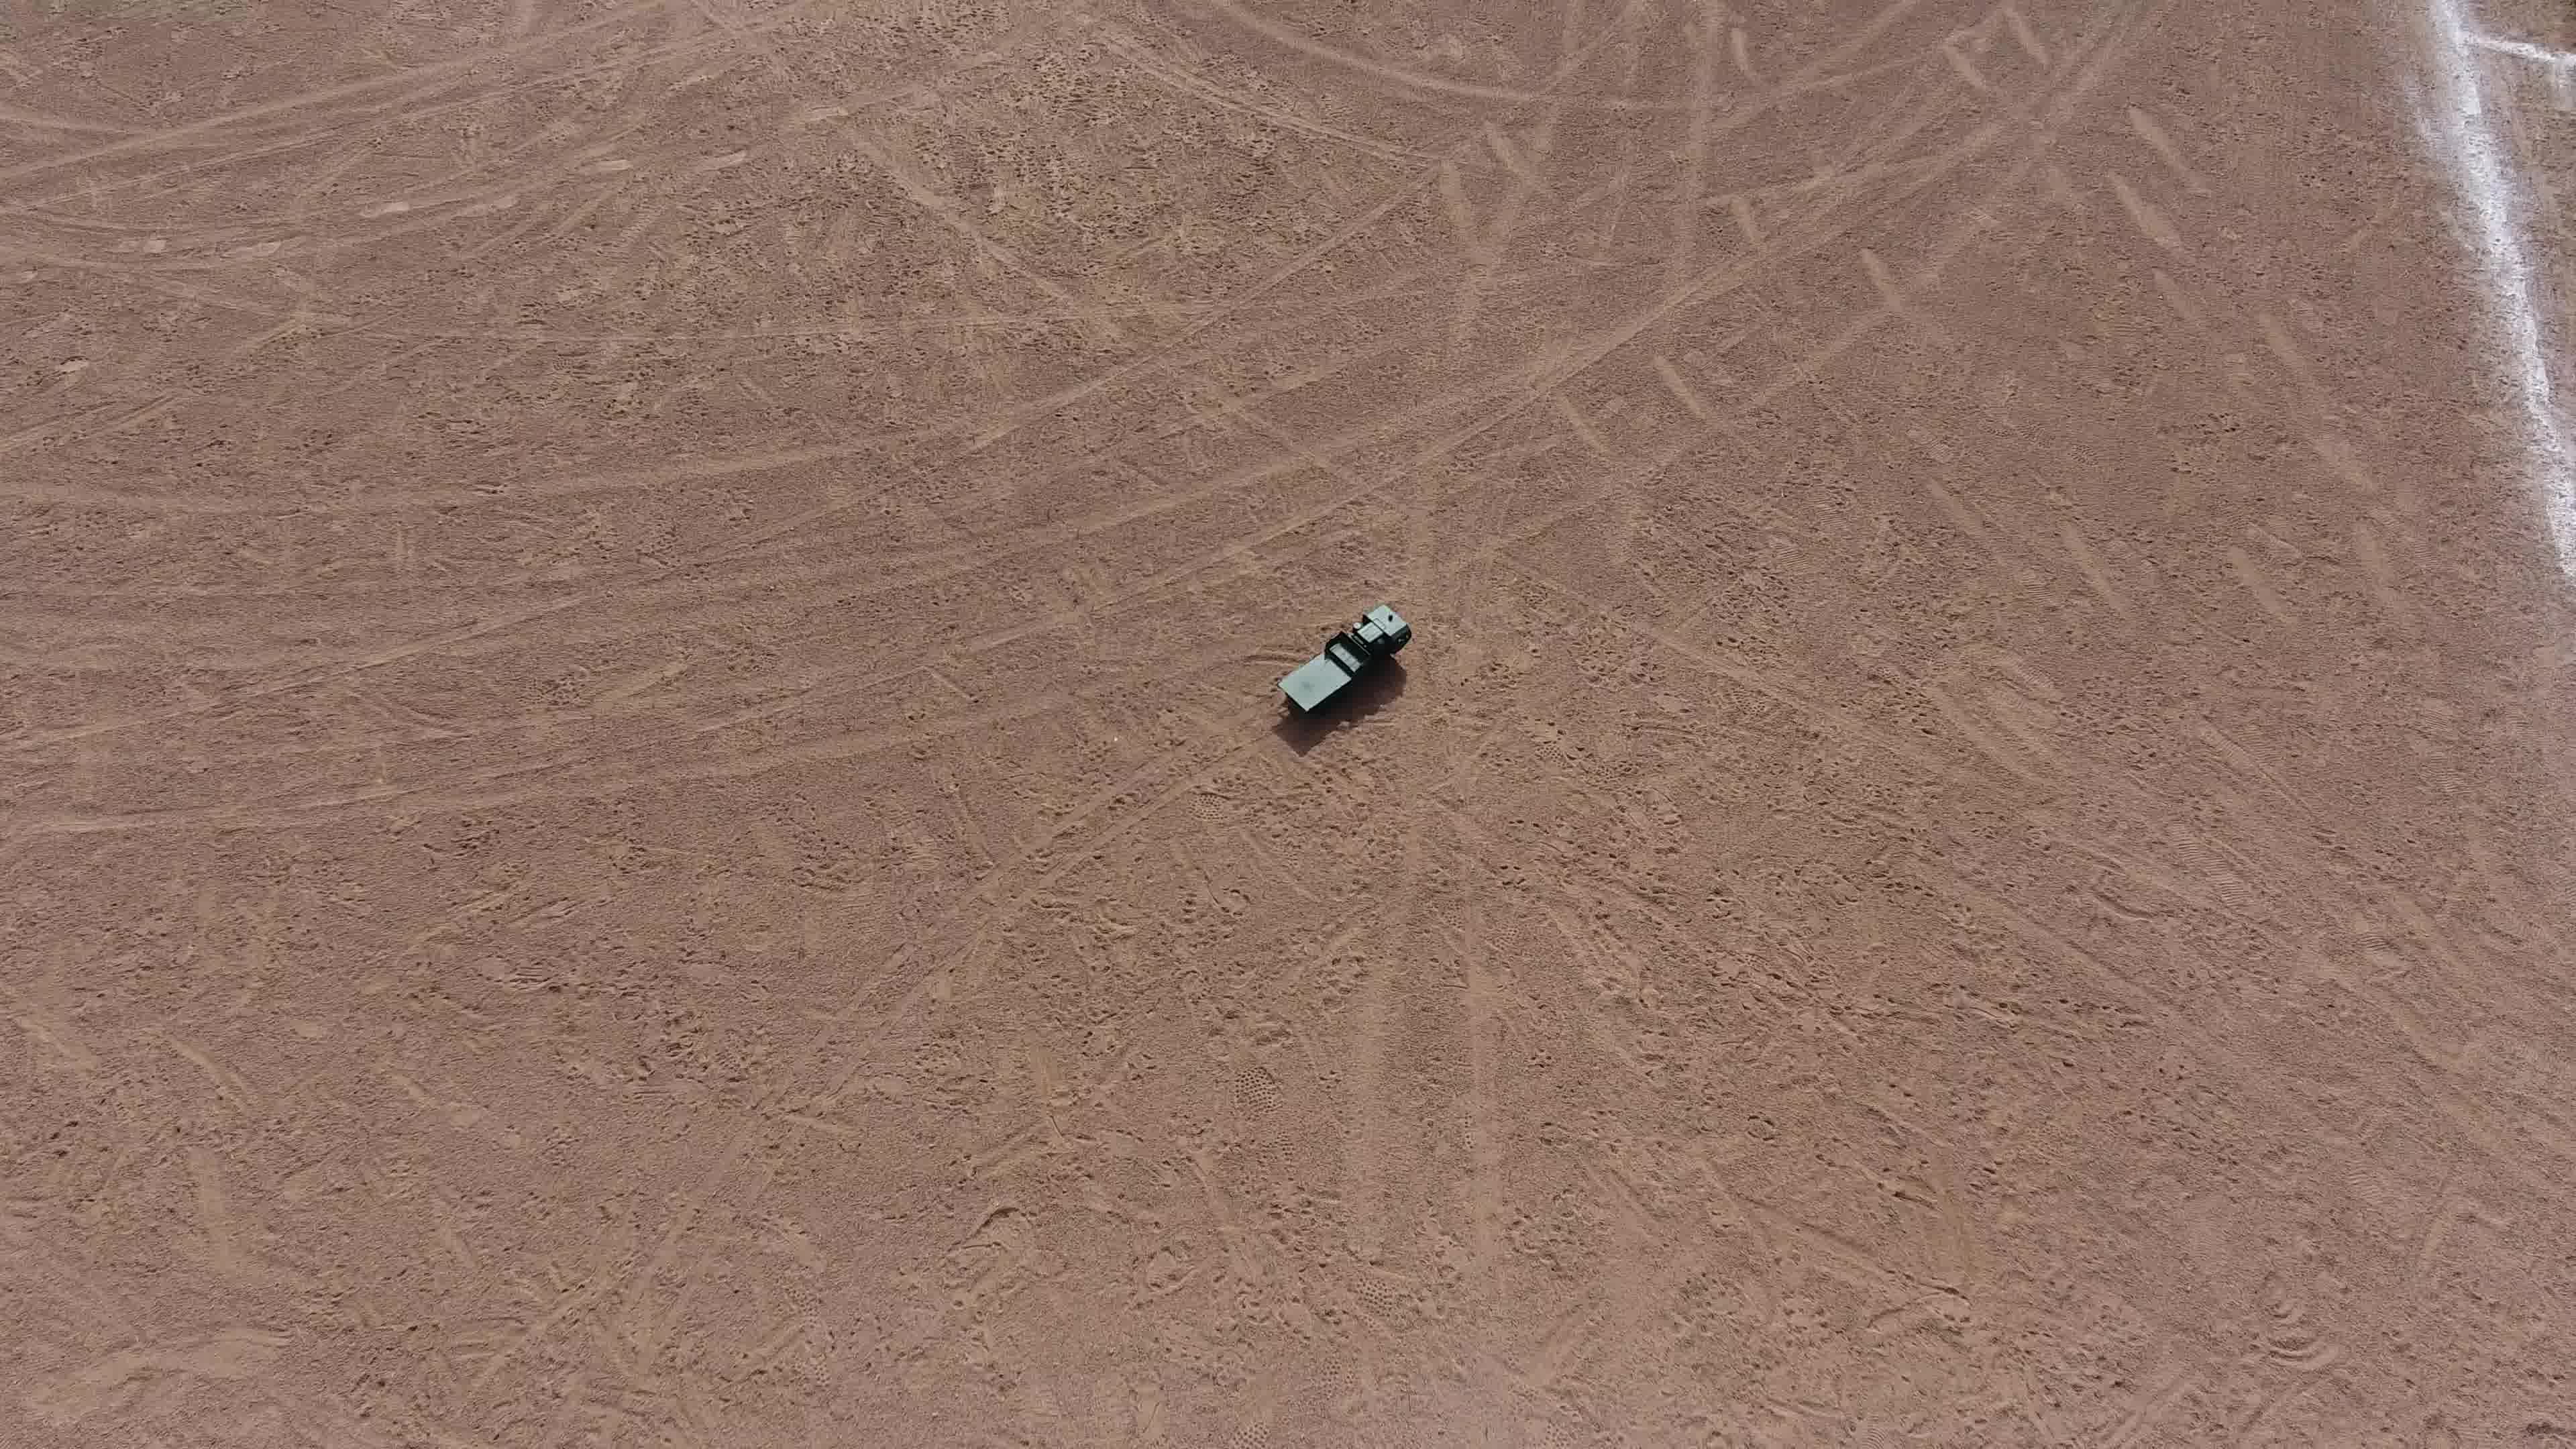transporter9: (1272, 596, 1419, 722)
